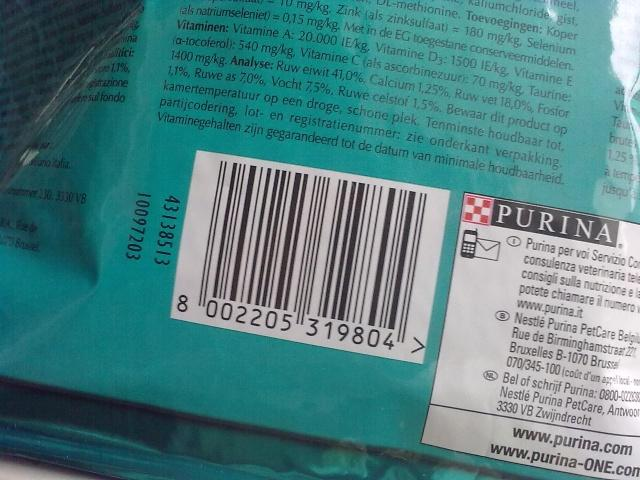Barcode: (171, 149, 435, 355)
